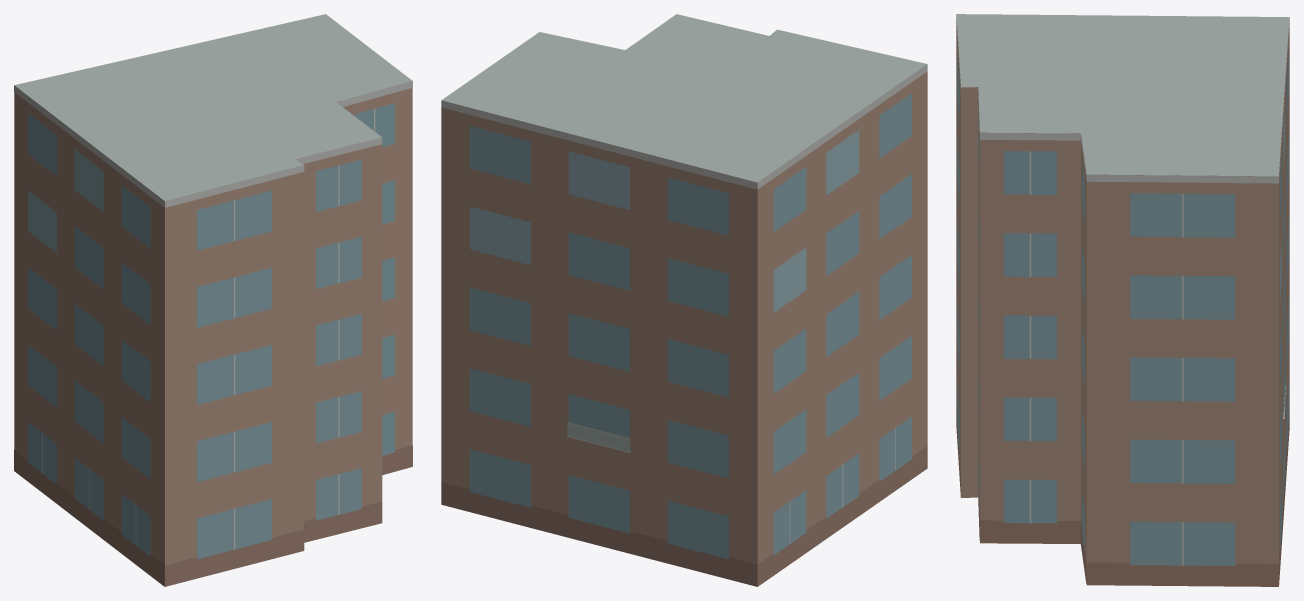
The model's file is survey-upis-32736088.glb.
The picture shows the model from 3 angles, left to right: view 1: azimuth 30°, elevation 25°; view 2: azimuth 150°, elevation 25°; view 3: azimuth 270°, elevation 25°; orthographic projection. The views are drawn at different scales.
Visible parts, largest first — view 1: survey-upis-32736088.tmp; view 2: survey-upis-32736088.tmp; view 3: survey-upis-32736088.tmp.
Part boxes in pixels (x1,y1,x2,y2): survey-upis-32736088.tmp: (14, 14, 412, 586); survey-upis-32736088.tmp: (441, 14, 927, 586); survey-upis-32736088.tmp: (956, 14, 1289, 586).
Bounding box in the file's own units: 11.8 × 13.9 × 10.23.
